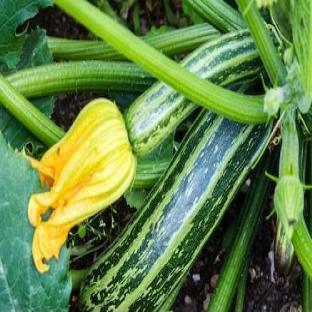Zucchini: (80, 112, 269, 310), (182, 30, 262, 85), (48, 38, 126, 61)
